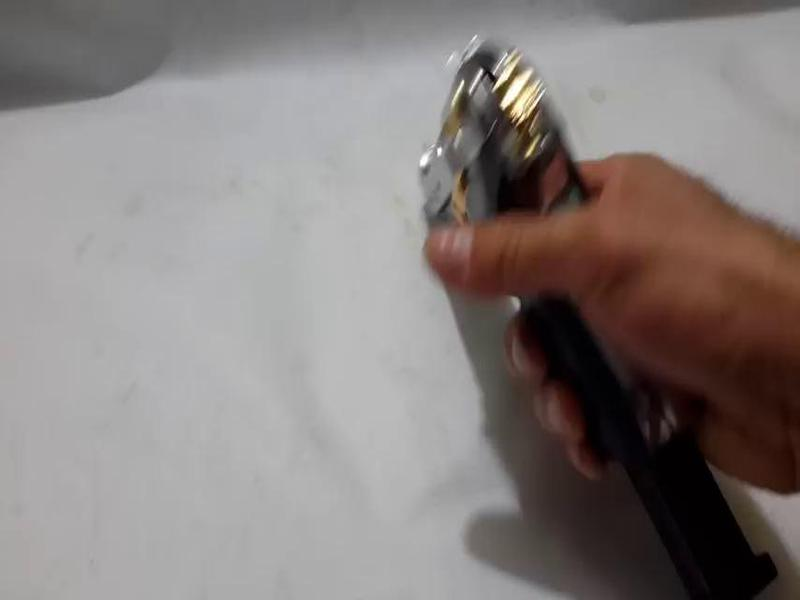Pistola: (377, 29, 727, 424)
